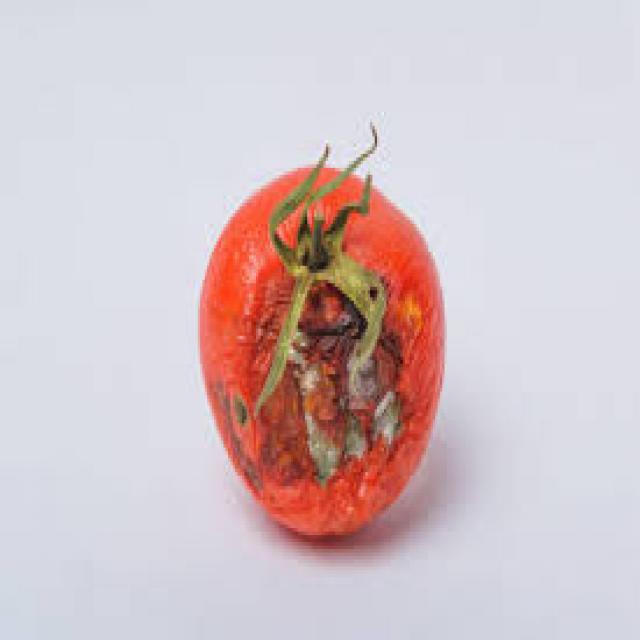organic waste: (196, 122, 444, 538)
